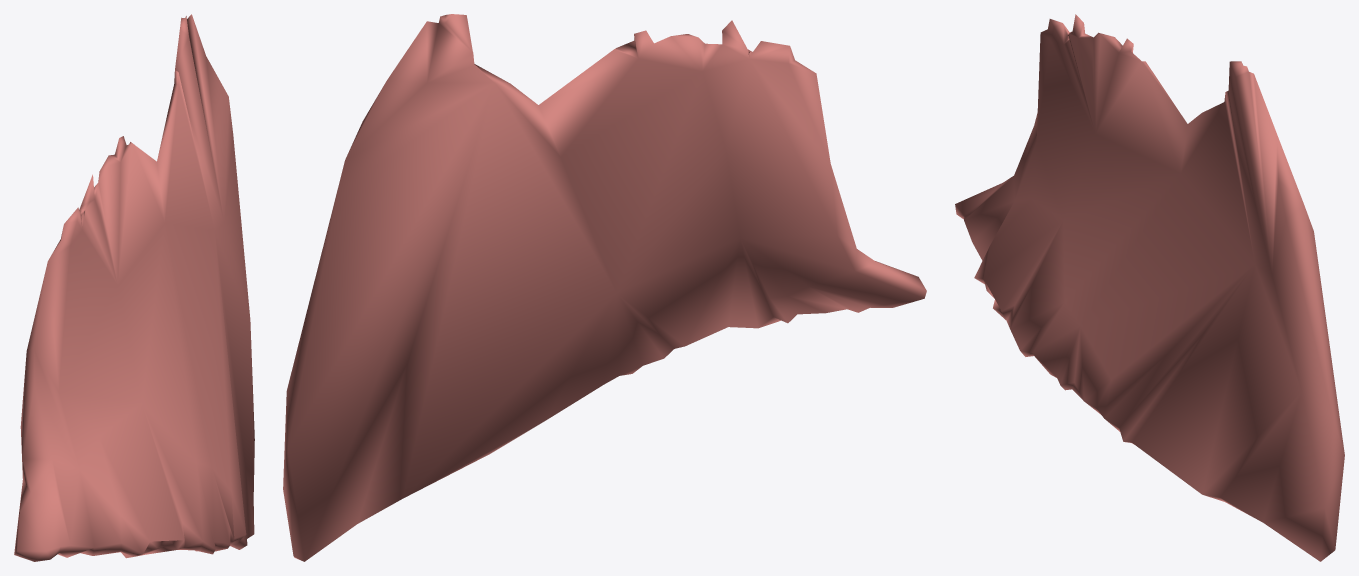
3 renders of one model, left to right at view 1: azimuth 30°, elevation 25°; view 2: azimuth 150°, elevation 25°; view 3: azimuth 270°, elevation 25°, orthographic. The views are drawn at different scales.
Visible parts, largest first — view 1: ZA_7315144dcf7ff79c; view 2: ZA_7315144dcf7ff79c; view 3: ZA_7315144dcf7ff79c.
Part boxes in pixels (bbox=[...]): ZA_7315144dcf7ff79c: bbox=[14, 14, 254, 561]; ZA_7315144dcf7ff79c: bbox=[283, 14, 926, 561]; ZA_7315144dcf7ff79c: bbox=[955, 14, 1344, 561].
Size of the model in its own units: 0.017 by 0.02 by 0.0156.
